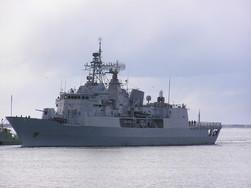warship: (4, 38, 222, 148)
